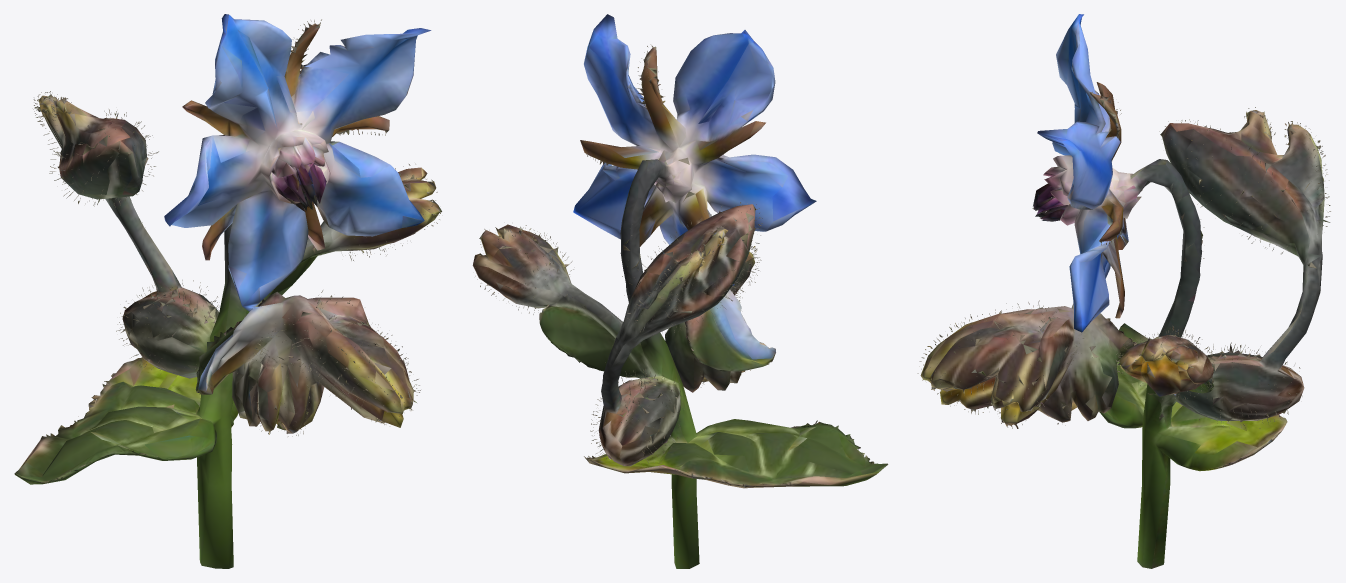
The model's file is Meshy_AI_Borage_0210153944_texture_decimated.obj.
The picture shows the model from 3 angles, left to right: view 1: azimuth 30°, elevation 25°; view 2: azimuth 150°, elevation 25°; view 3: azimuth 270°, elevation 25°; orthographic projection. The views are drawn at different scales.
Visible parts, largest first — view 1: Meshy_AI_Borage_0210153944_texture; view 2: Meshy_AI_Borage_0210153944_texture; view 3: Meshy_AI_Borage_0210153944_texture.
Part boxes in pixels (x1,y1,x2,y2): Meshy_AI_Borage_0210153944_texture: [14, 14, 441, 568]; Meshy_AI_Borage_0210153944_texture: [472, 14, 888, 568]; Meshy_AI_Borage_0210153944_texture: [917, 14, 1330, 568].
Size of the model in its own units: 1.56 by 2 by 1.4.
